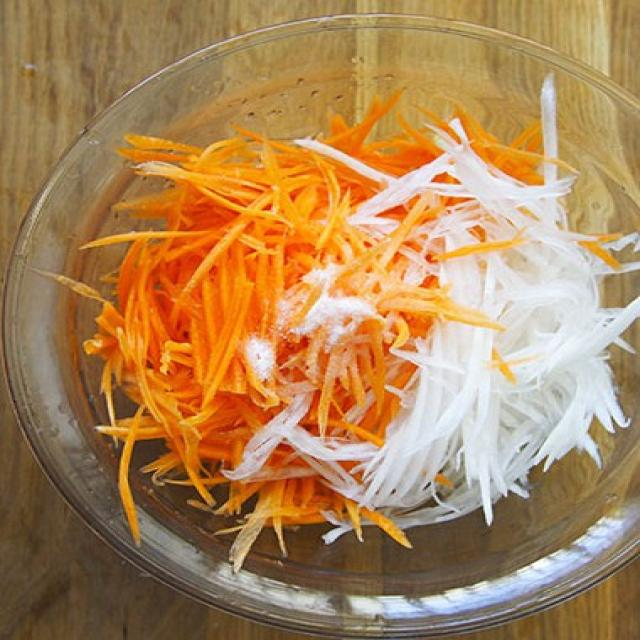do chua: (59, 80, 638, 570)
